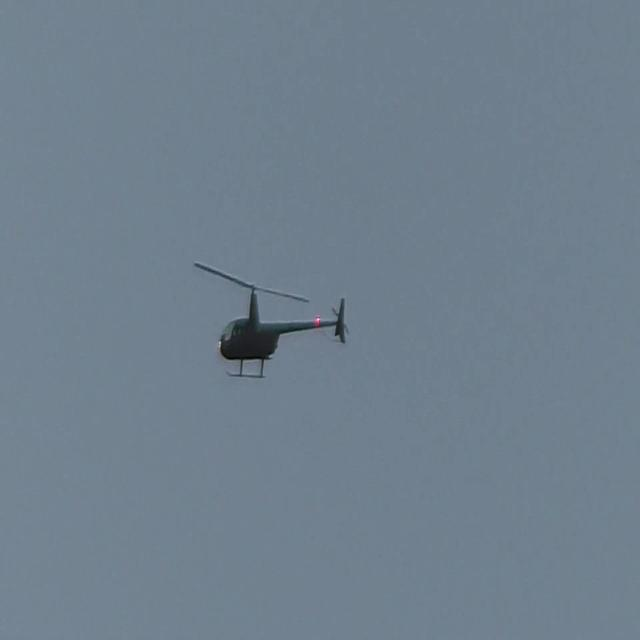CIV_HELO: (218, 284, 348, 380)
